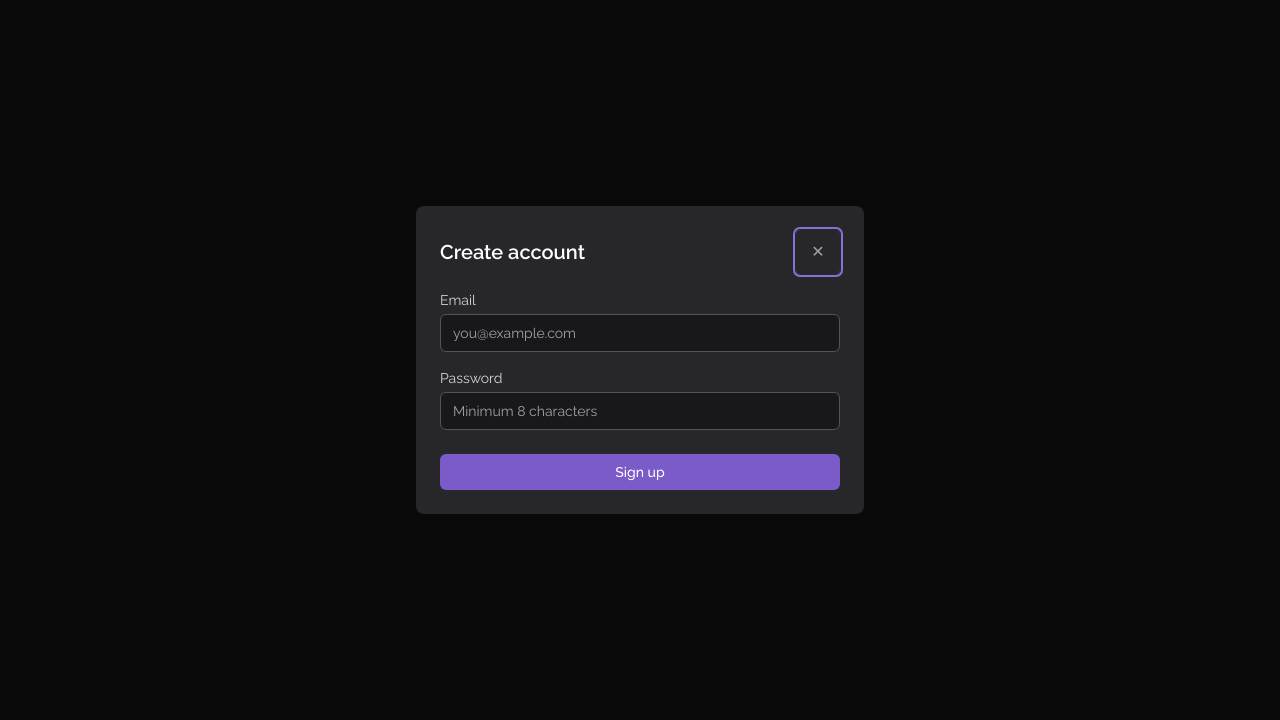
it: SignUpModal › shows a password required error when the password is empty
Step 1. Type "test@example.com" into the field labelled "Email" → (640, 333), box [440,314,840,352]
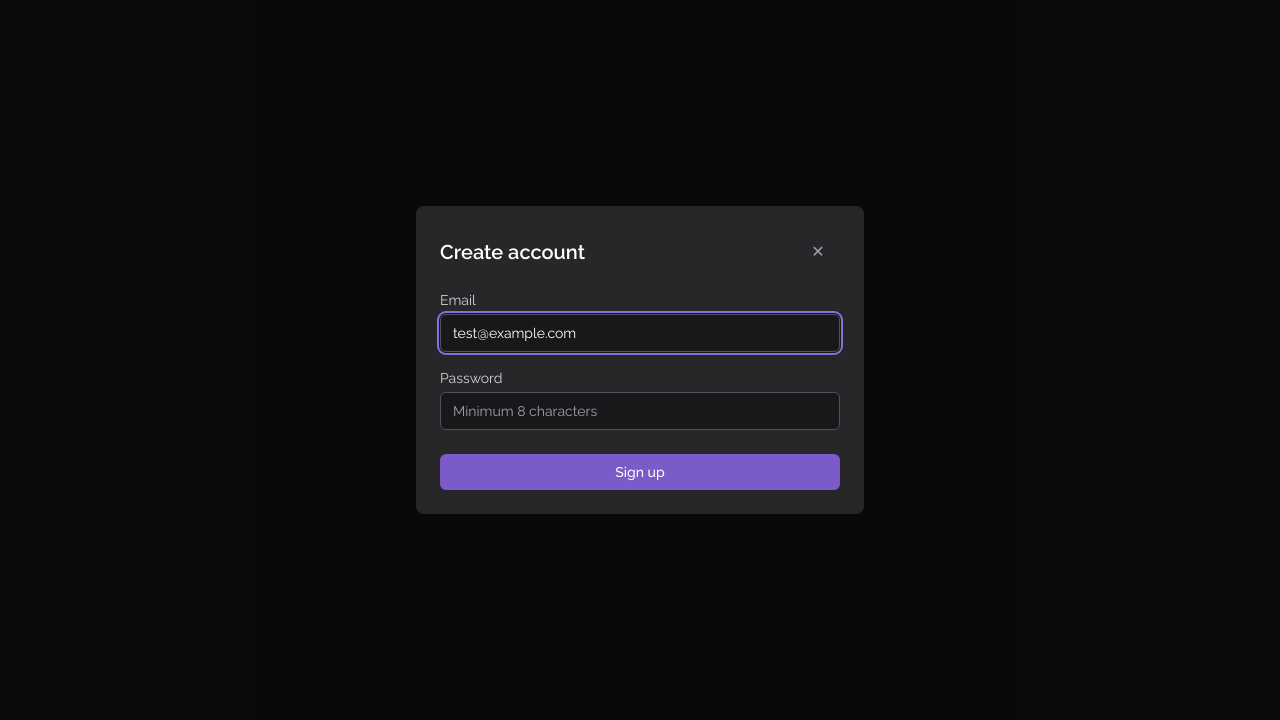
Step 2. Click the button "Sign up" → (640, 472), box [440,454,840,490]
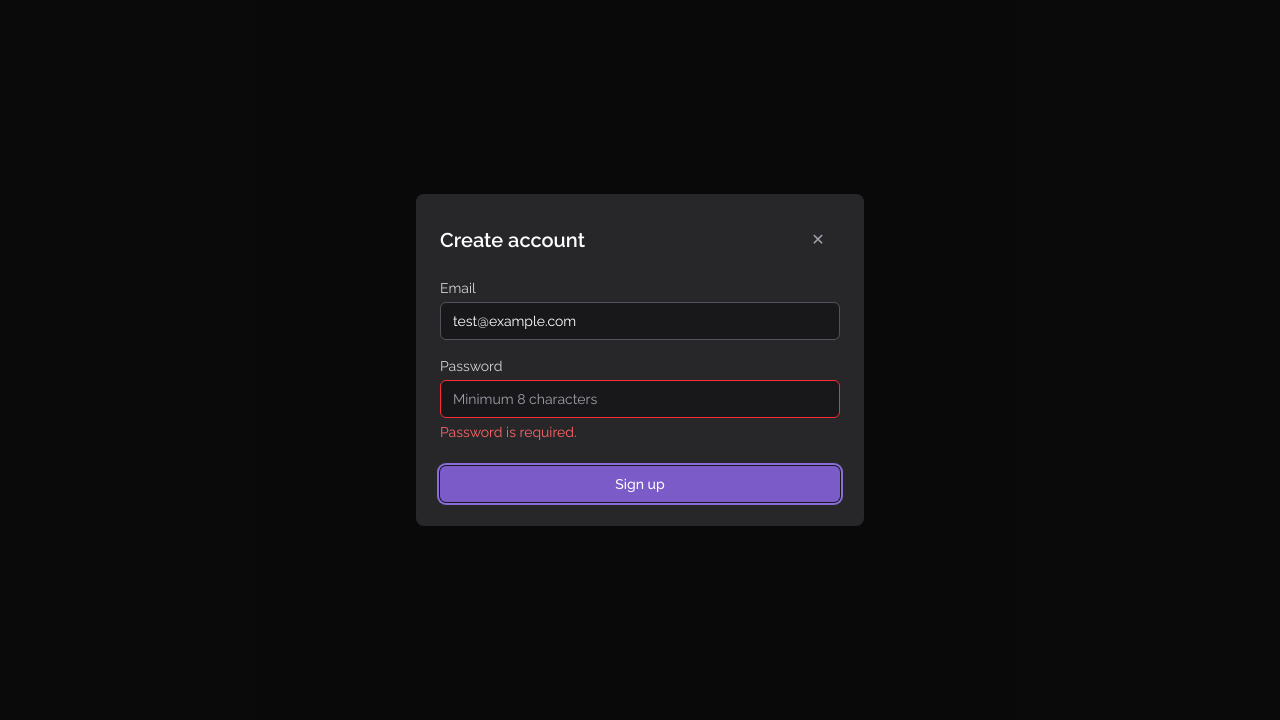
Expected: the text "Password is required." is shown, [440,424,577,440]
